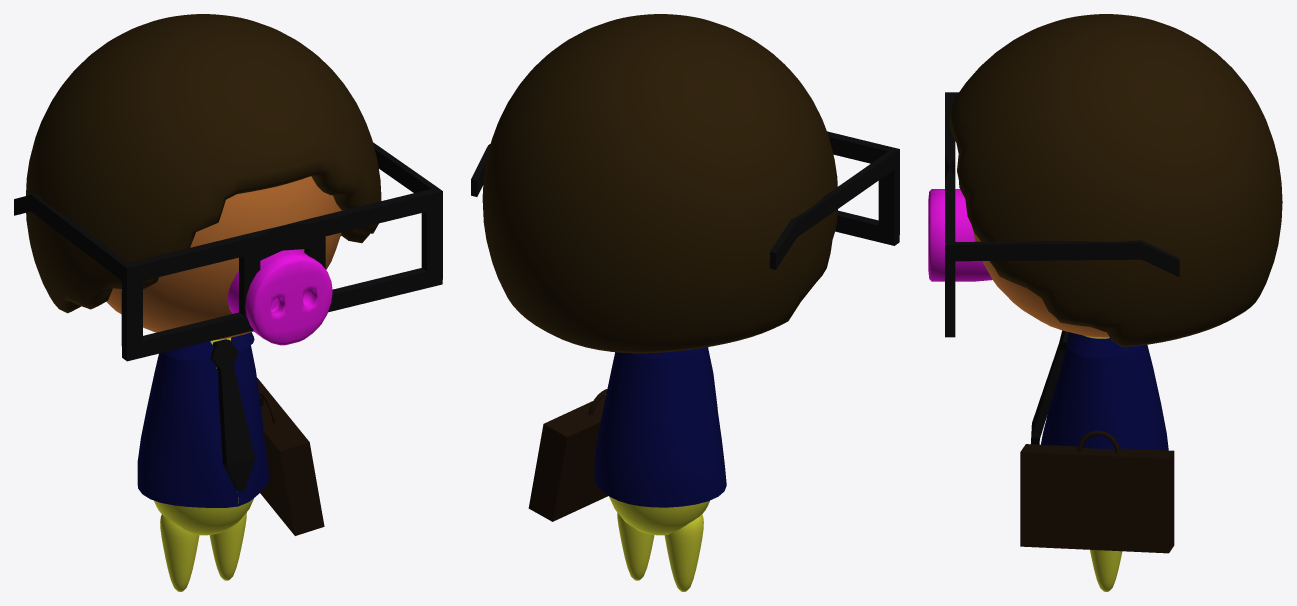
The model's file is Model_Empresario.FBX.
3 views of the same model, side by side, from view 1: azimuth 30°, elevation 25°; view 2: azimuth 150°, elevation 25°; view 3: azimuth 270°, elevation 25° (orthographic).
Visible parts, largest first — view 1: Empresario_Pelo, Empresario_Gafas, Empresario_Bata, Empresario_Cabeza, Empresario_ModePig, Empresario_Maletin, Cientifico_Corbata, Empresario_Cuerpo, Empresario_Pier_Der, Empresario_Pier_Izq; view 2: Empresario_Pelo, Empresario_Bata, Empresario_Gafas, Empresario_Maletin, Empresario_Cuerpo, Empresario_Pier_Der, Empresario_Pier_Izq; view 3: Empresario_Pelo, Empresario_Maletin, Empresario_Bata, Empresario_Gafas, Empresario_ModePig, Empresario_Cabeza, Cientifico_Corbata, Empresario_Pier_Izq.
Boxes of the visible parts, <box> form: Empresario_Pelo: <box>26,14,381,313</box>; Empresario_Gafas: <box>14,142,442,361</box>; Empresario_Bata: <box>137,332,269,507</box>; Empresario_Cabeza: <box>106,176,341,340</box>; Empresario_ModePig: <box>228,249,332,345</box>; Empresario_Maletin: <box>257,378,324,535</box>; Cientifico_Corbata: <box>210,339,254,491</box>; Empresario_Cuerpo: <box>154,337,253,535</box>; Empresario_Pier_Der: <box>160,514,199,591</box>; Empresario_Pier_Izq: <box>209,512,246,580</box>; Empresario_Pelo: <box>482,14,837,353</box>; Empresario_Bata: <box>594,347,726,507</box>; Empresario_Gafas: <box>471,131,899,269</box>; Empresario_Maletin: <box>528,389,607,521</box>; Empresario_Cuerpo: <box>609,496,709,535</box>; Empresario_Pier_Der: <box>664,514,703,591</box>; Empresario_Pier_Izq: <box>617,512,654,580</box>; Empresario_Pelo: <box>950,14,1282,346</box>; Empresario_Maletin: <box>1020,430,1174,553</box>; Empresario_Bata: <box>1041,332,1168,450</box>; Empresario_Gafas: <box>945,92,1179,337</box>; Empresario_ModePig: <box>928,189,992,281</box>; Empresario_Cabeza: <box>972,228,1109,337</box>; Cientifico_Corbata: <box>1031,330,1069,444</box>; Empresario_Pier_Izq: <box>1090,550,1122,591</box>.
Size of the model in its own units: 78.35 by 132 by 76.81.
